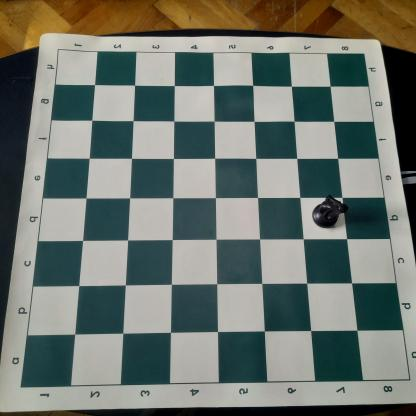black-knight: (311, 194, 349, 229)
